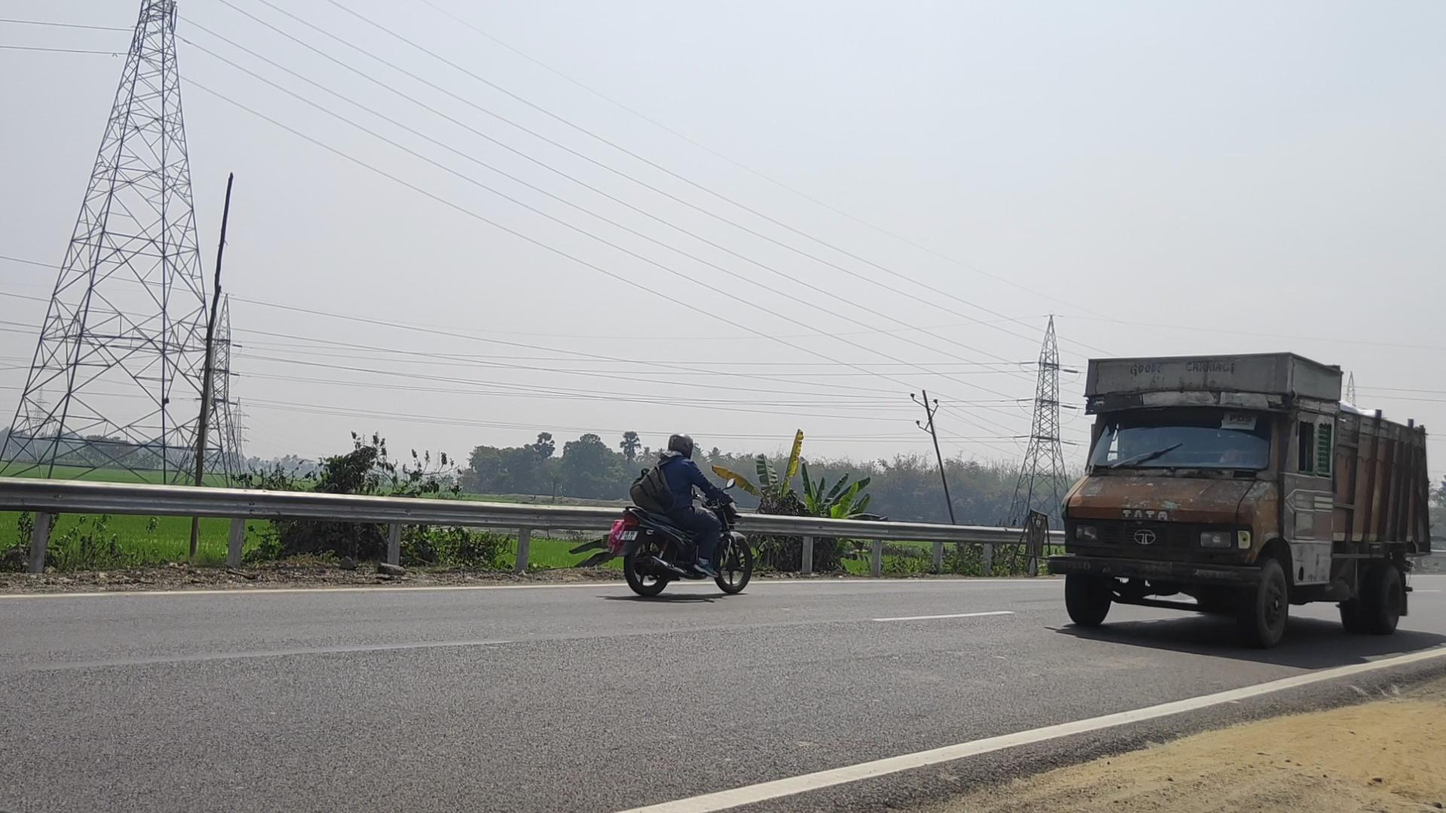bike: (612, 433, 753, 594)
truck: (1048, 351, 1431, 648)
